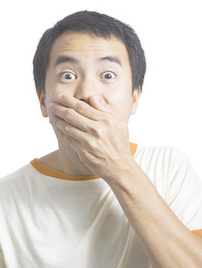face: (47, 28, 129, 155)
